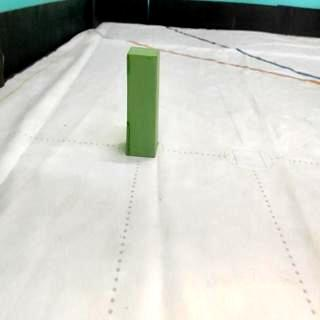greenbox: (125, 44, 162, 160)
